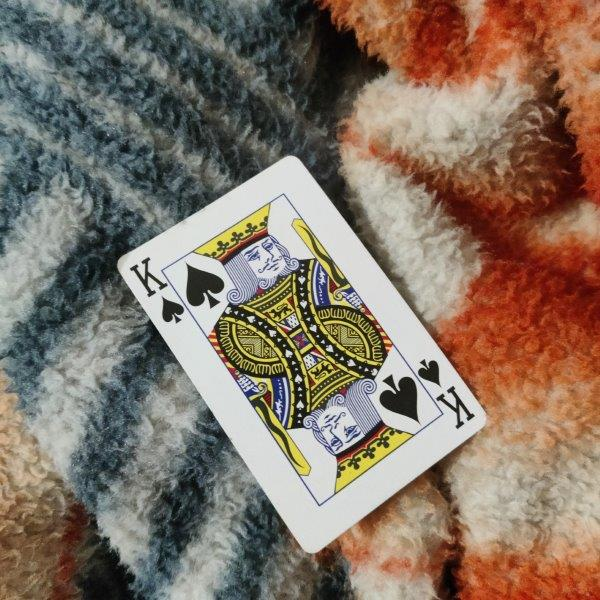King of Spades: (116, 155, 487, 555)
